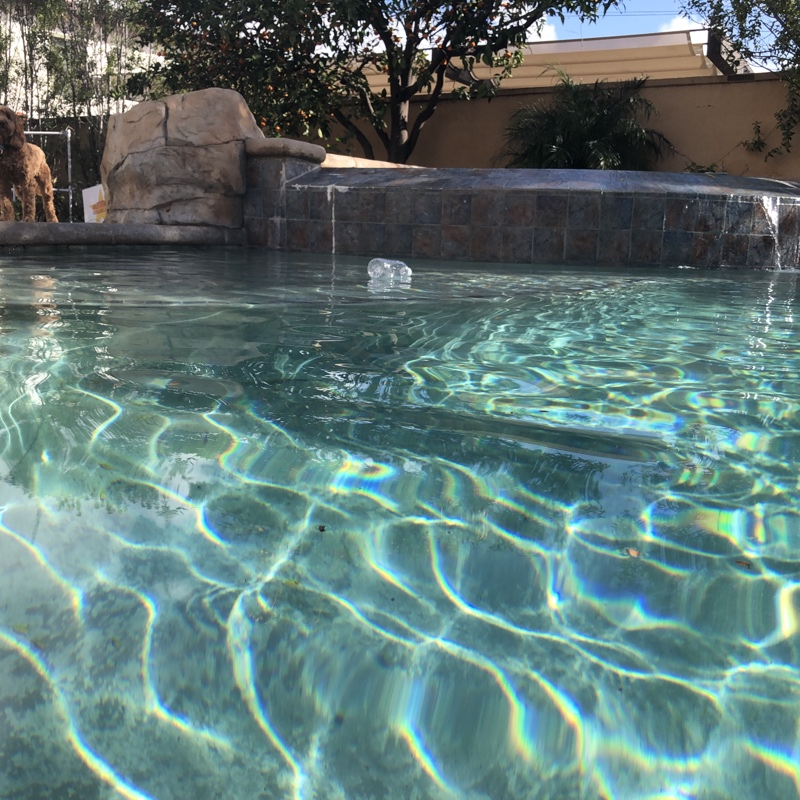Plastic Bottle: (364, 256, 414, 286)
